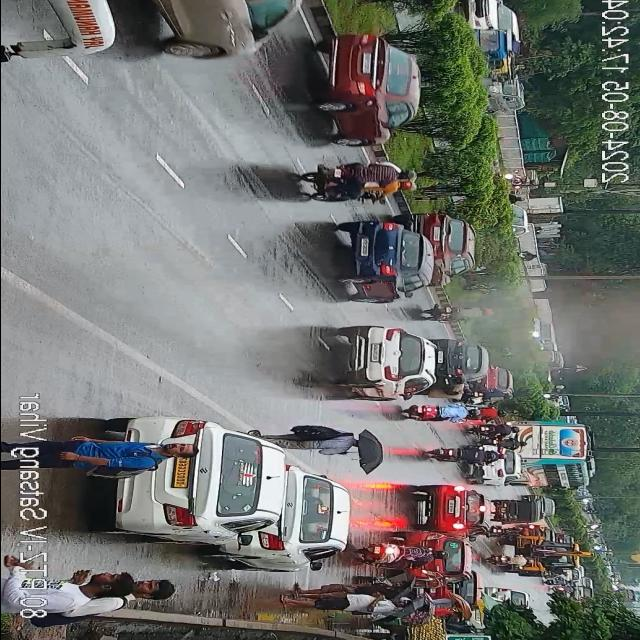2-wheelers: (296, 157, 416, 209), (362, 540, 452, 568), (418, 302, 492, 327), (468, 418, 524, 444), (0, 20, 21, 76), (458, 444, 506, 466), (432, 444, 484, 464), (473, 387, 513, 403), (486, 554, 538, 566), (486, 525, 530, 538), (478, 408, 504, 420)
auto: (456, 28, 522, 72), (492, 500, 538, 523)
bus: (0, 0, 130, 68), (511, 416, 598, 489)
car: (106, 420, 277, 550), (311, 29, 423, 150), (242, 472, 350, 568), (163, 0, 315, 67), (333, 213, 429, 301), (335, 321, 431, 398), (414, 210, 474, 282), (391, 530, 473, 578), (414, 483, 484, 533), (432, 337, 486, 387), (468, 0, 520, 29), (482, 445, 522, 482), (486, 72, 522, 111), (477, 366, 512, 386), (533, 494, 556, 520)
pedestrian: (67, 434, 197, 474), (72, 576, 174, 614), (49, 564, 134, 606), (282, 596, 416, 616)
truck: (496, 536, 597, 575), (279, 426, 372, 458), (300, 578, 410, 596), (432, 596, 461, 612), (436, 608, 460, 622)
